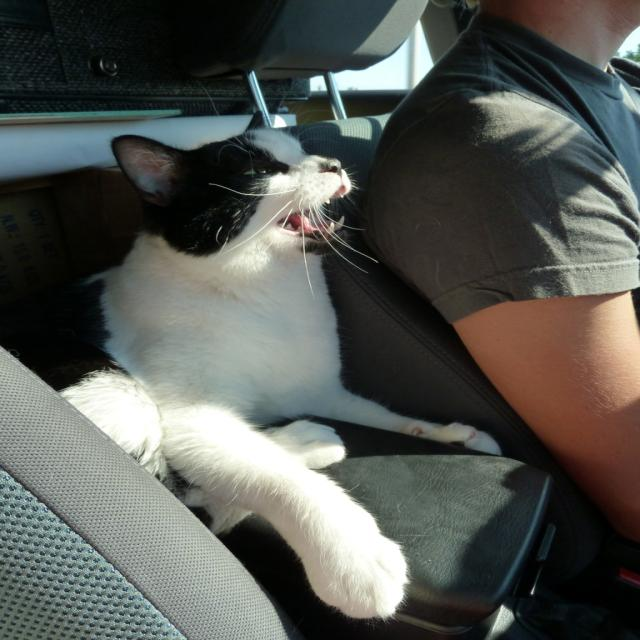Cat: (48, 101, 508, 628)
